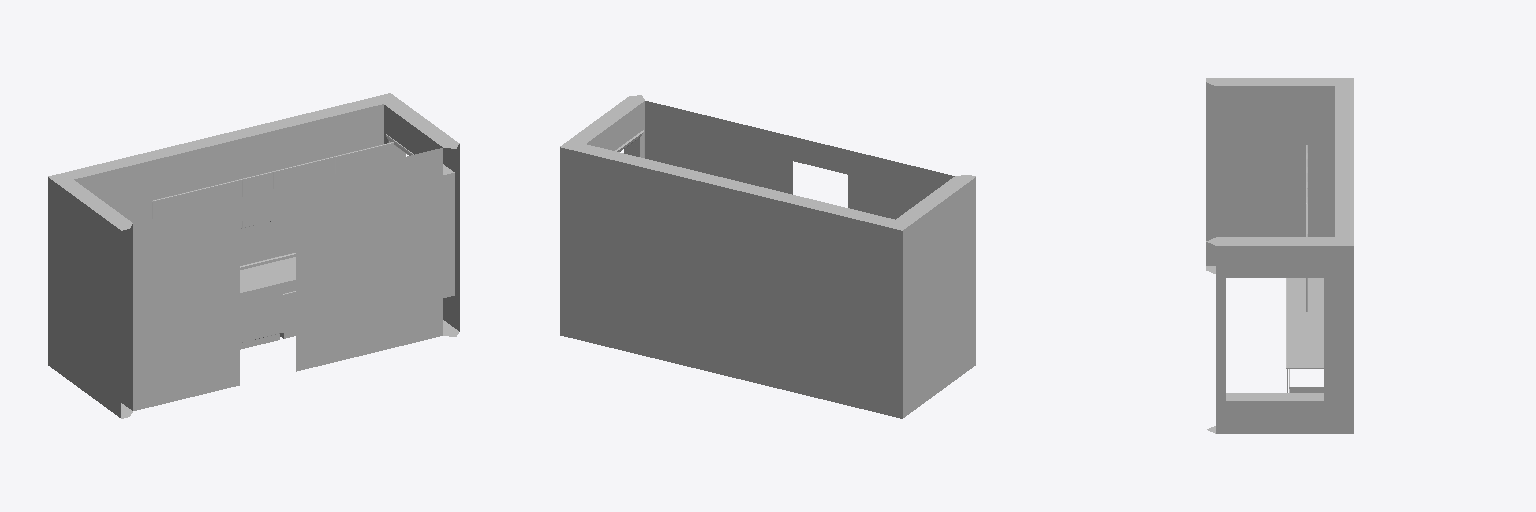
Rendered from Kitchen-13984w.obj.
3 renders of one model, left to right at view 1: azimuth 30°, elevation 25°; view 2: azimuth 150°, elevation 25°; view 3: azimuth 270°, elevation 25°, orthographic.
Bounding box in the file's own units: 4.96 × 2.6 × 1.85.